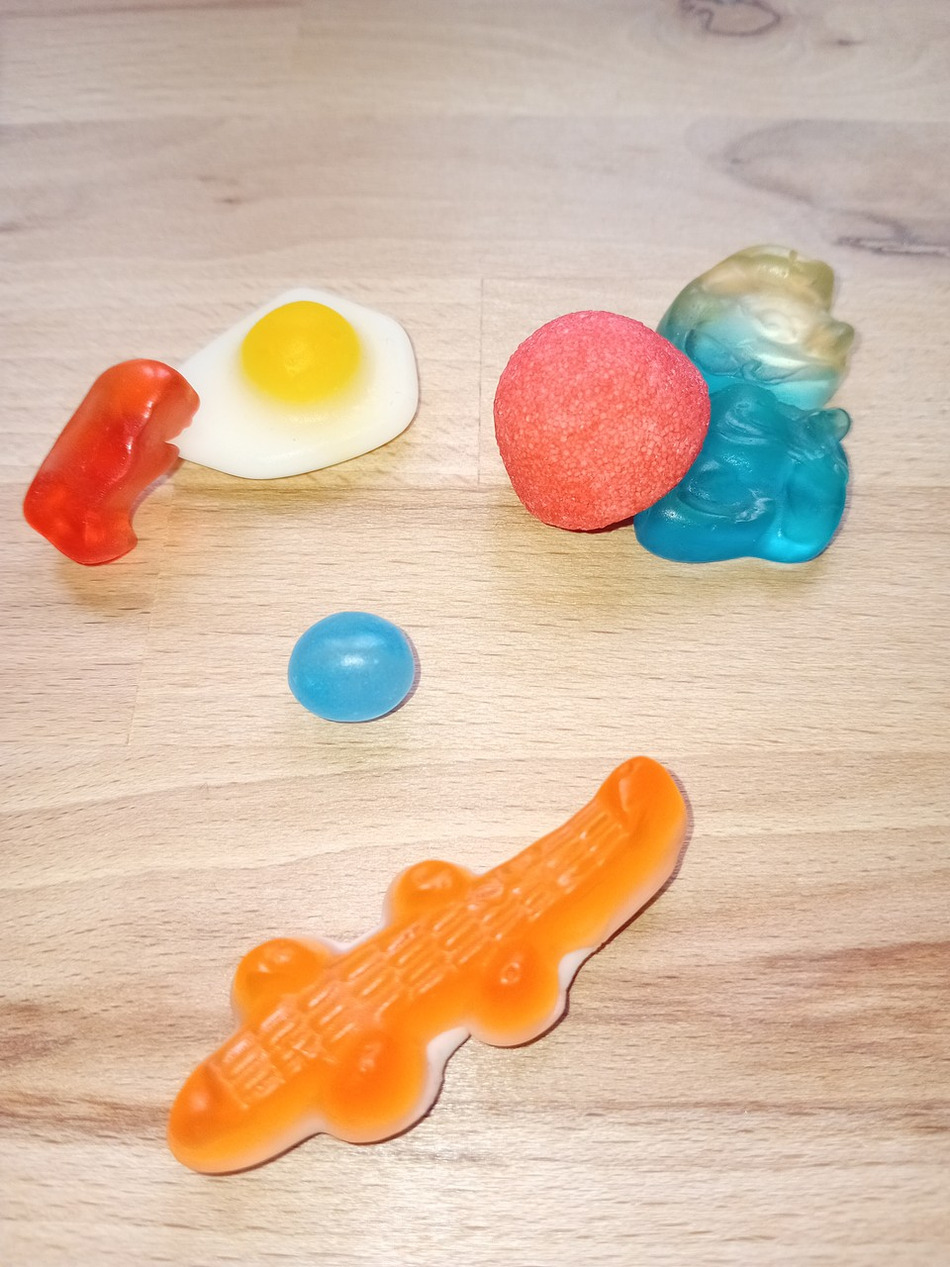crocodile_orange: (149, 749, 698, 1195)
dragibus_bleu: (272, 601, 430, 729)
oeuf_oeuf: (162, 281, 439, 484)
ourson_orangeClair: (14, 347, 202, 574)
schtroumpf_bleu-blanc: (632, 236, 860, 569)
tagada_fraise: (482, 308, 712, 536)
